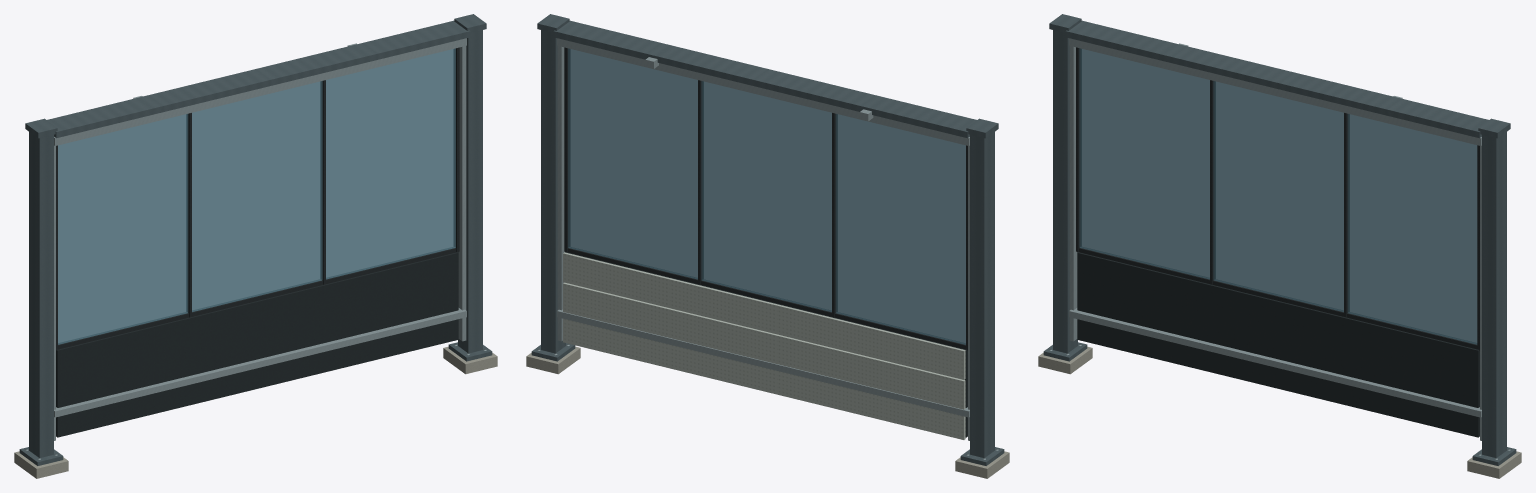
The picture shows the model from 3 angles, left to right: view 1: azimuth 30°, elevation 25°; view 2: azimuth 150°, elevation 25°; view 3: azimuth 330°, elevation 25°; orthographic projection.
Parts seen in each view (by area): view 1: VIS_Laminated_Glass_24mm, VIS_Acoustic_Absorber_Core, VIS_Steel_Posts, VIS_Inner_Perimeter_Extrusions, VIS_Top_Drainage_Capping, VIS_Rubber_Glazing_Gaskets, VIS_Bases; view 2: VIS_Laminated_Glass_24mm, VIS_Acoustic_Facing, VIS_Steel_Posts, VIS_Inner_Perimeter_Extrusions, VIS_Top_Drainage_Capping, VIS_Rubber_Glazing_Gaskets, VIS_Bases, VIS_Acoustic_Absorber_Core; view 3: VIS_Laminated_Glass_24mm, VIS_Acoustic_Absorber_Core, VIS_Steel_Posts, VIS_Inner_Perimeter_Extrusions, VIS_Top_Drainage_Capping, VIS_Rubber_Glazing_Gaskets, VIS_Bases.
Boxes of the visible parts, x1,y1,x2,y2 form: VIS_Laminated_Glass_24mm: (58, 48, 455, 344); VIS_Acoustic_Absorber_Core: (56, 252, 458, 437); VIS_Steel_Posts: (19, 14, 492, 465); VIS_Inner_Perimeter_Extrusions: (54, 38, 466, 440); VIS_Top_Drainage_Capping: (47, 20, 470, 138); VIS_Rubber_Glazing_Gaskets: (56, 47, 459, 350); VIS_Bases: (14, 346, 497, 478); VIS_Laminated_Glass_24mm: (568, 48, 965, 344); VIS_Acoustic_Facing: (563, 252, 965, 439); VIS_Steel_Posts: (531, 14, 1004, 465); VIS_Inner_Perimeter_Extrusions: (557, 38, 969, 440); VIS_Top_Drainage_Capping: (553, 20, 976, 138); VIS_Rubber_Glazing_Gaskets: (564, 47, 967, 350); VIS_Bases: (526, 346, 1009, 478); VIS_Acoustic_Absorber_Core: (566, 252, 967, 437); VIS_Laminated_Glass_24mm: (1079, 48, 1477, 344); VIS_Acoustic_Absorber_Core: (1077, 252, 1479, 437); VIS_Steel_Posts: (1043, 14, 1516, 465); VIS_Inner_Perimeter_Extrusions: (1069, 38, 1481, 440); VIS_Top_Drainage_Capping: (1065, 20, 1488, 138); VIS_Rubber_Glazing_Gaskets: (1076, 47, 1479, 350); VIS_Bases: (1038, 346, 1521, 478).
Size of the model in its own units: 4.3 by 3.04 by 0.36.
7 materials, 7 textured.
